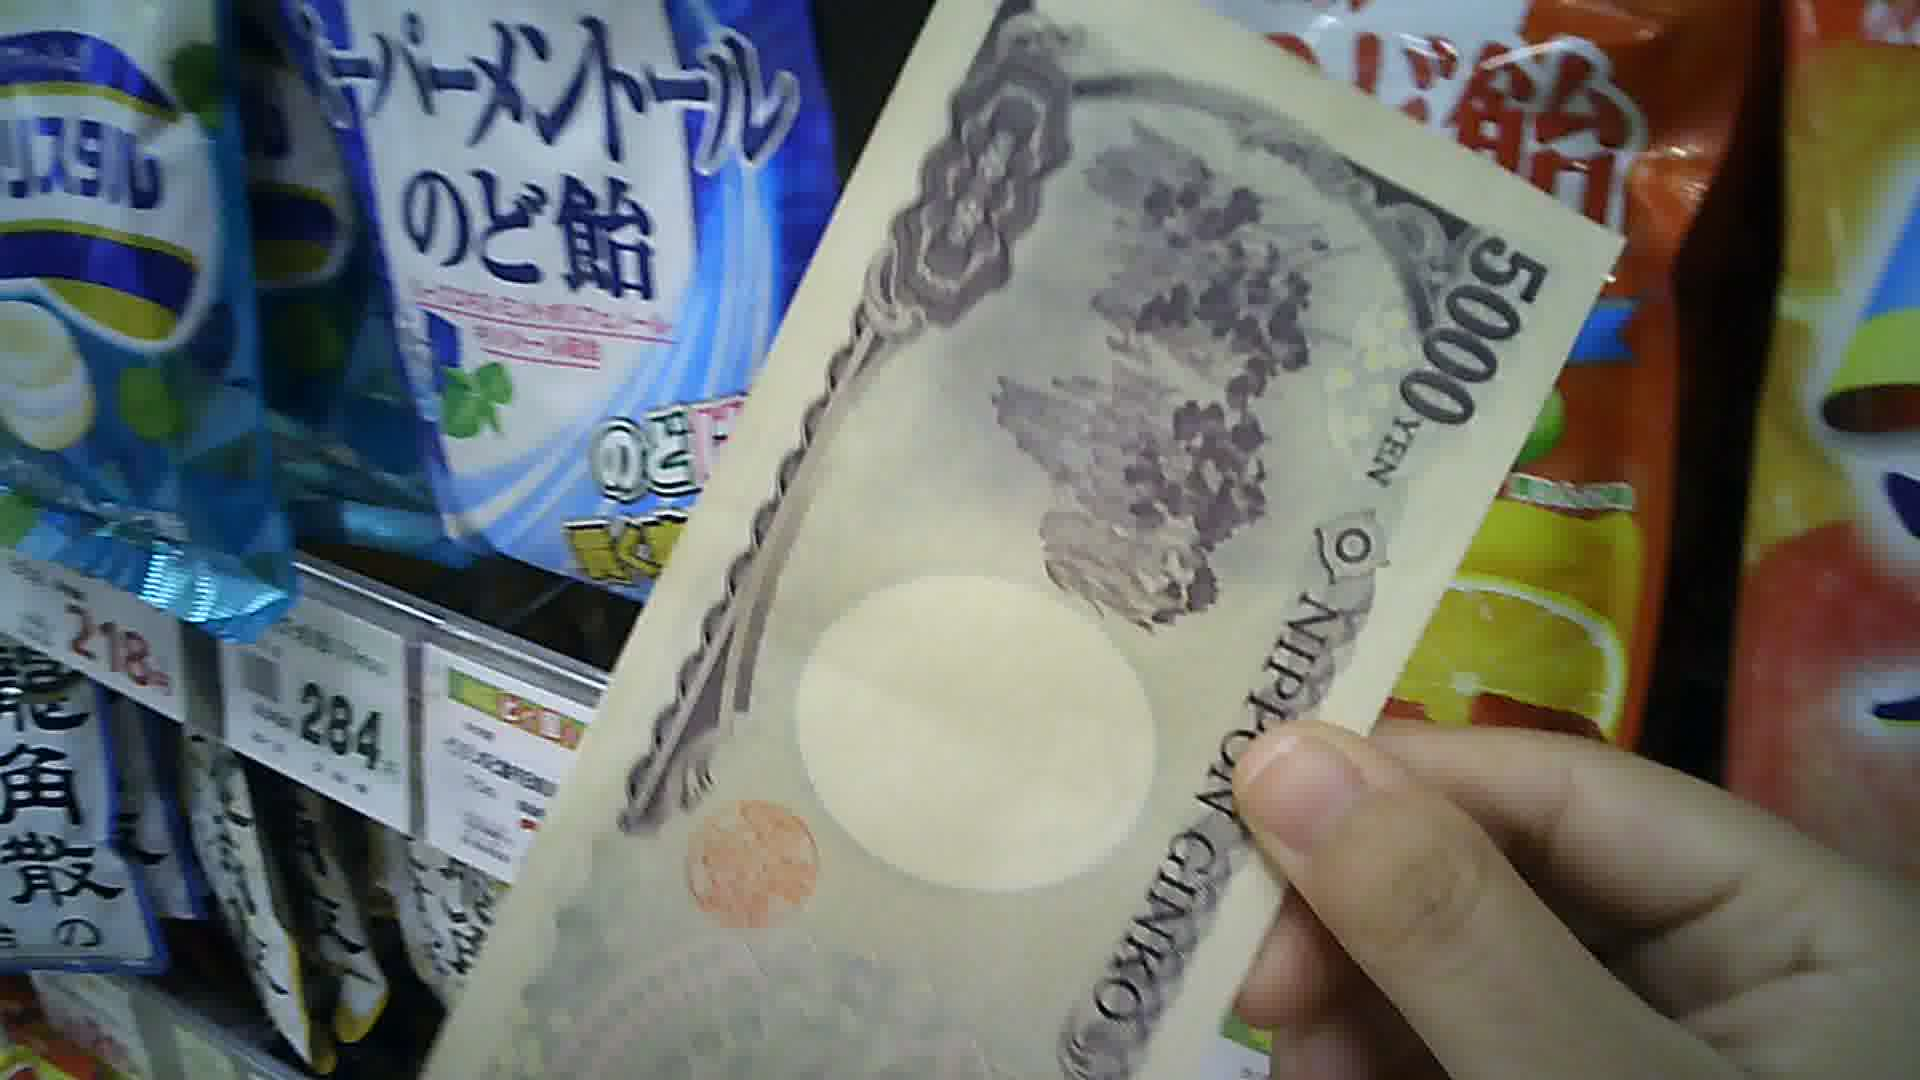5,000 Yen: (465, 26, 1584, 1073)
